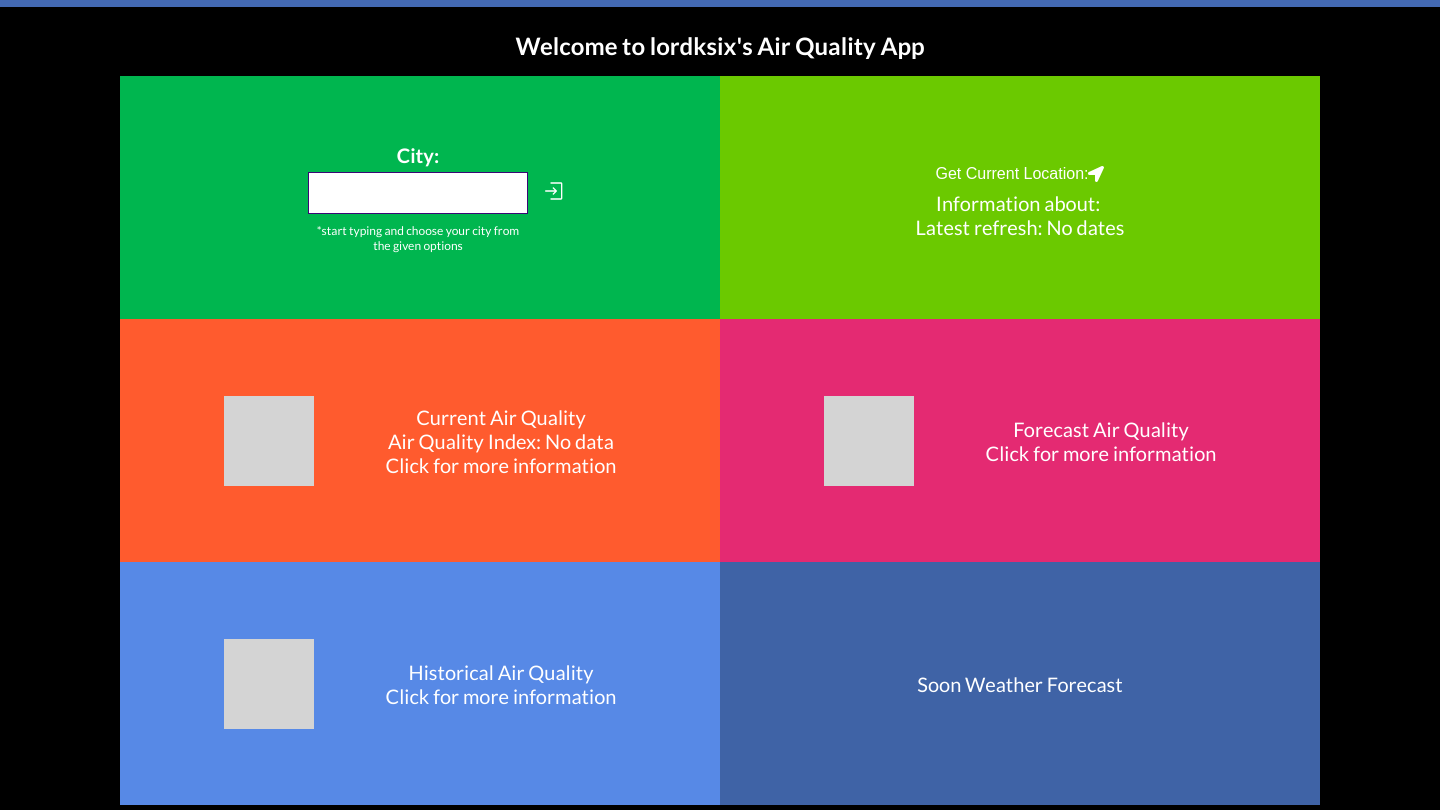
test interaction historical › test nativation to current air quality page
(page scrolled)
verify page content for expected route after navigating
Click the link "Historical Air Quality".
click(420, 684)  # box x1=224 y1=639 x2=616 y2=729
(page scrolled)
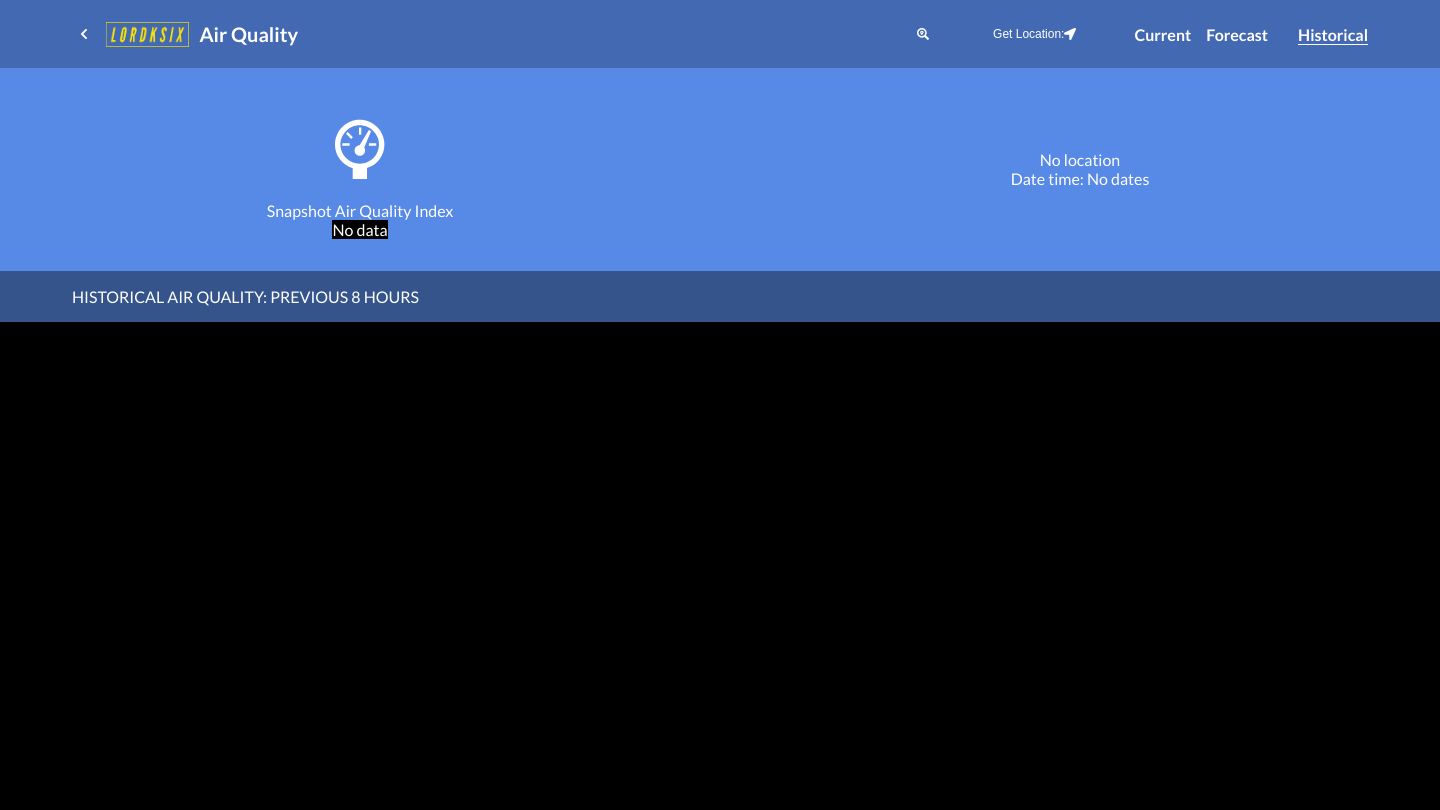
Result: the text "HISTORICAL AIR QUALITY: PREVIOUS 8 HOURS" is shown at x1=72 y1=287 x2=419 y2=306
